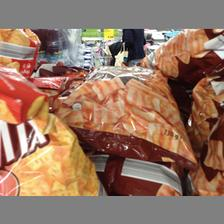Chips: (59, 56, 203, 164), (134, 30, 222, 78)
